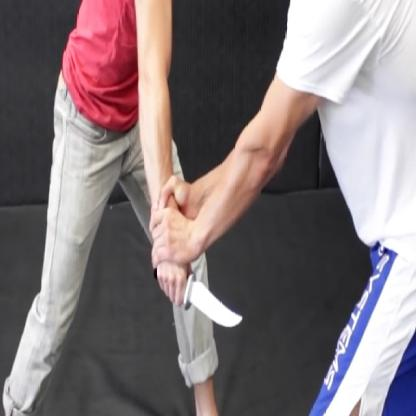knife: (149, 262, 247, 336)
